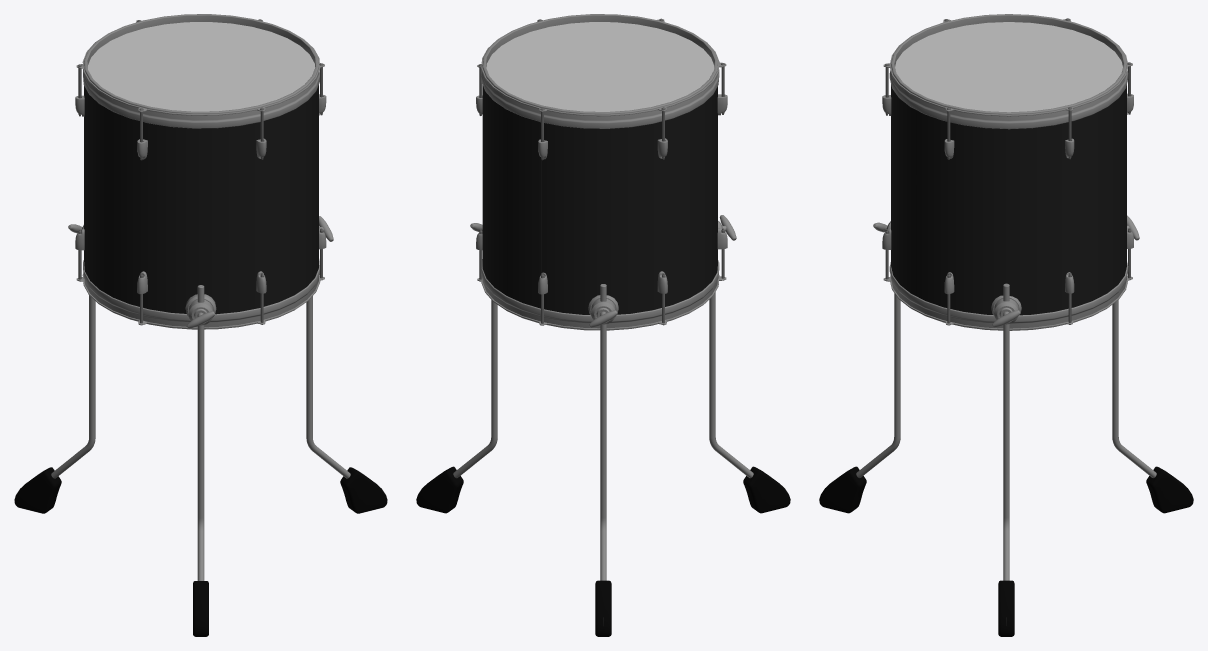
Rendered from tom.fbx.
3 views of the same model, side by side, from view 1: azimuth 30°, elevation 25°; view 2: azimuth 150°, elevation 25°; view 3: azimuth 270°, elevation 25° (orthographic).
Parts seen in each view (by area): view 1: Tom_Floor, Bracket.001; view 2: Tom_Floor, Bracket.001; view 3: Tom_Floor, Bracket.001.
Boxes of the visible parts, left/top/right/bottom form: Tom_Floor: left=75, top=14, right=326, bottom=329; Bracket.001: left=14, top=216, right=387, bottom=636; Tom_Floor: left=476, top=14, right=727, bottom=330; Bracket.001: left=416, top=215, right=790, bottom=636; Tom_Floor: left=882, top=14, right=1133, bottom=330; Bracket.001: left=819, top=215, right=1193, bottom=636.
Size of the model in its own units: 77.78 by 126 by 88.18.
1 material, 1 textured.
